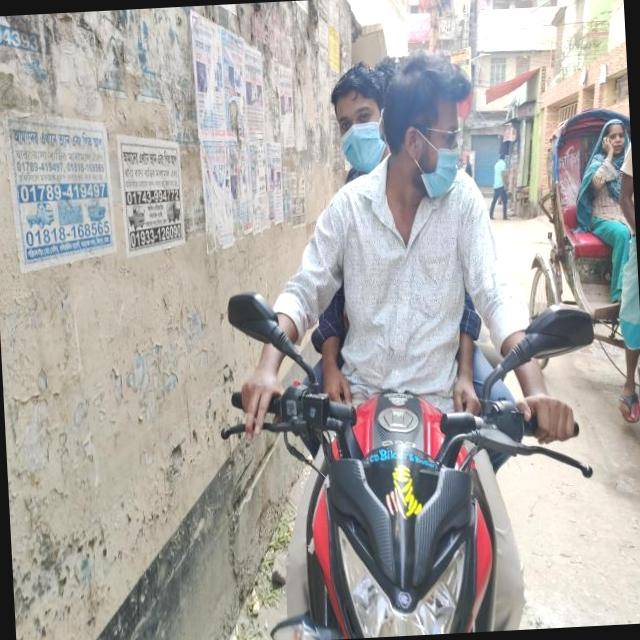motorcycle: (212, 261, 614, 640)
person: (237, 45, 566, 640), (288, 58, 404, 424), (358, 46, 440, 433)
rider_region: (192, 43, 605, 640)
